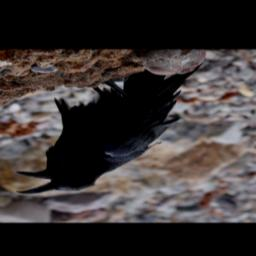Crow: (16, 63, 205, 194)
